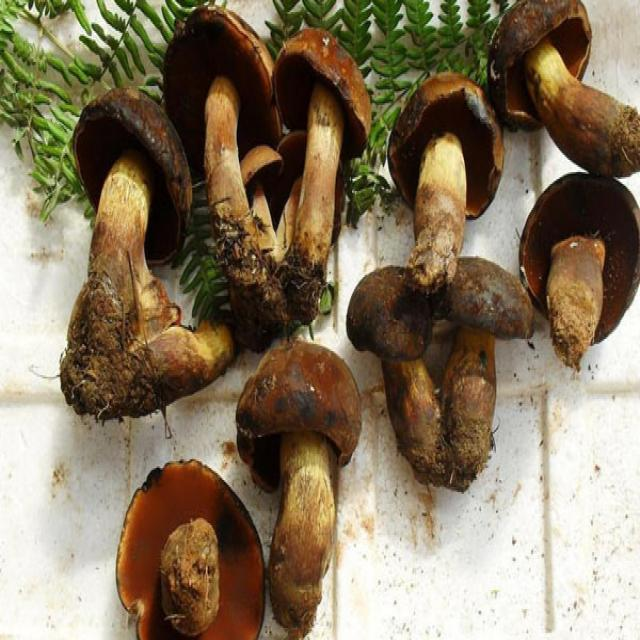Boletus: (66, 83, 191, 388), (240, 340, 363, 640), (166, 6, 282, 298), (116, 458, 266, 638), (485, 0, 640, 174), (432, 253, 532, 505), (275, 32, 367, 300), (390, 76, 503, 289), (518, 170, 638, 370), (349, 264, 445, 484), (239, 140, 282, 261)
